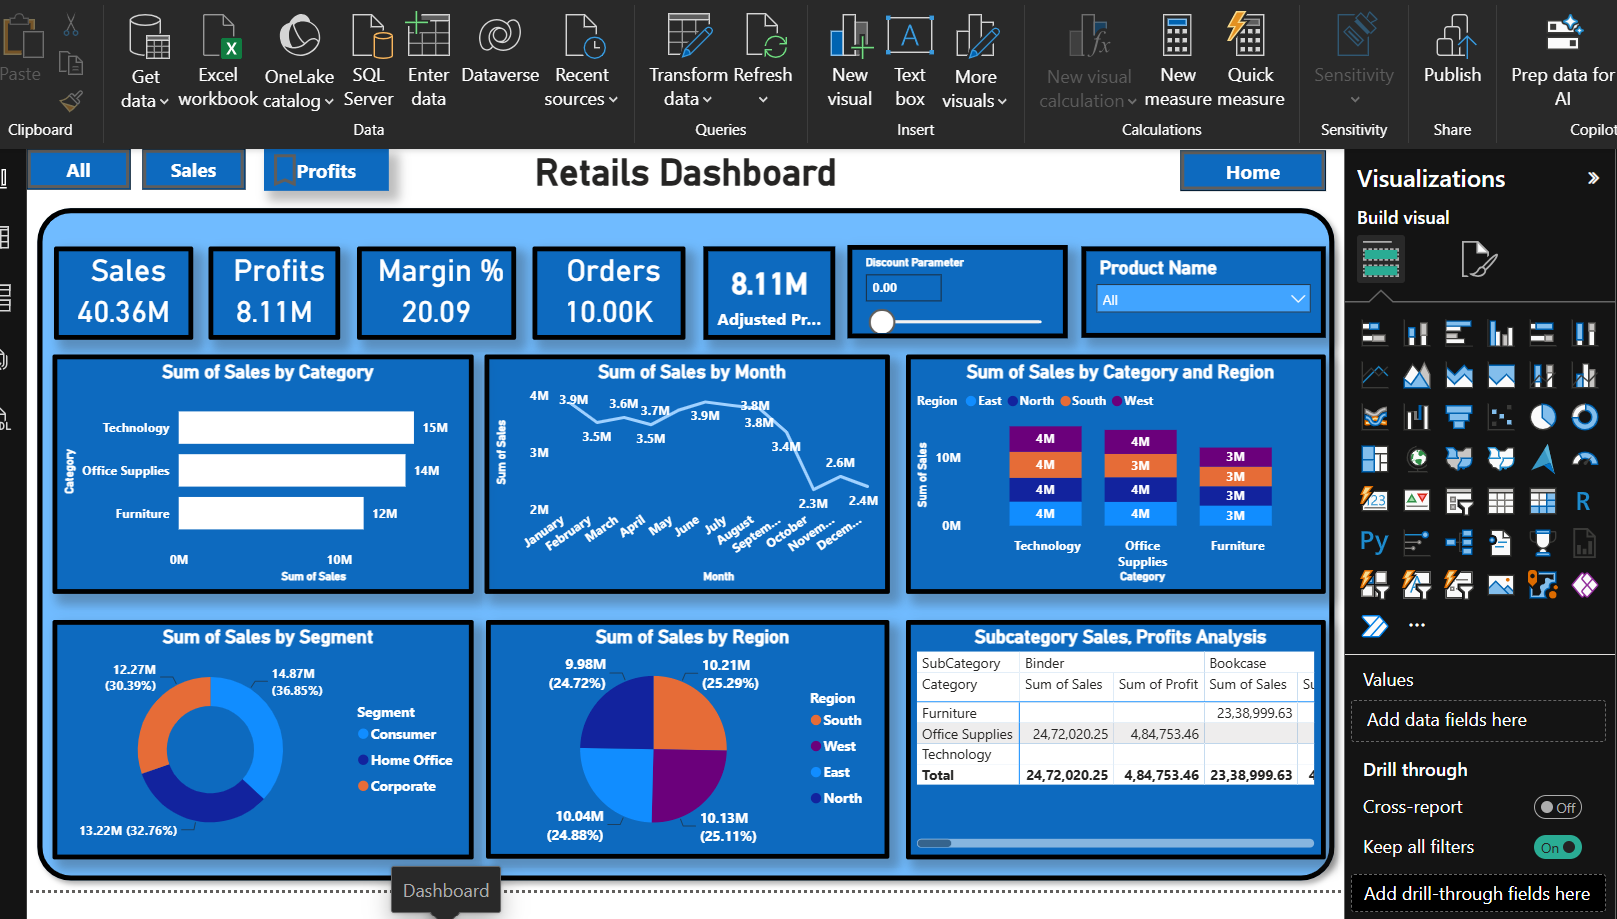

Layout of this report page (visuals, bound fields, positions):
{"tool":"powerbi","page":{"name":"Dashboard","canvas":[1280,720],"ordinal":1},"visuals":[{"type":"group","id":"g1","title":"Sales View","box":[0,-0.7,1280.8,721.4],"z":0},{"type":"shape","title":"Retails Dashboard","box":[0,1.4,1280.8,719.2],"z":0,"group":"g1"},{"type":"card","title":"Margin %","fields":{"Values":["Orders.Profit Margin %"]},"box":[320.7,94.1,154.5,90.4],"z":1000,"group":"g1"},{"type":"slicer","fields":{"Values":["Products.ProductName"]},"box":[1024.9,94.8,237.6,88.9],"z":1000},{"type":"actionButton","box":[0,-0.7,100.6,39.4],"z":2000,"group":"g1"},{"type":"actionButton","title":"Profits","box":[230.3,0,121,40.8],"z":2000},{"type":"actionButton","box":[112.4,0,99.7,39.6],"z":3000},{"type":"card","title":"Sales","fields":{"Values":["Orders.Total Sales"]},"box":[26.2,94.1,135.6,90.4],"z":3000,"group":"g1"},{"type":"slicer","fields":{"Values":["Discount Parameter.Discount Parameter"]},"box":[797.4,93.3,214.3,90.4],"z":4000},{"type":"card","title":"Profits","fields":{"Values":["Sum(Orders.Profit)"]},"box":[176.4,94.1,128.3,90.4],"z":4000,"group":"g1"},{"type":"actionButton","box":[1121.1,1.5,141.4,39.4],"z":5000},{"type":"card","fields":{"Values":["Customers.Adjusted Profit"]},"box":[657.5,94.7,128.3,90.4],"z":5000,"group":"g1"},{"type":"card","title":"Orders","fields":{"Values":["Count(Orders.OrderID)"]},"box":[491.3,94.7,148.7,90.4],"z":6000,"group":"g1"},{"type":"lineChart","fields":{"Category":["DateTable.Date.Variation.Date Hierarchy.Month"],"Y":["Sum(Orders.Sales)"]},"box":[444.2,199.5,394.2,232.7],"z":7000,"group":"g1"},{"type":"clusteredBarChart","fields":{"Category":["Products.Category"],"Y":["Sum(Orders.Sales)"]},"box":[25,199.5,409.6,232.7],"z":8000,"group":"g1"},{"type":"columnChart","fields":{"Y":["Sum(Orders.Sales)"],"Category":["Products.Category"],"Series":["Regions.Region"]},"box":[853.8,199.5,407.7,232.7],"z":9000,"group":"g1"},{"type":"donutChart","fields":{"Category":["Customers.Segment"],"Y":["Sum(Orders.Sales)"]},"box":[25,457.2,409.6,232.7],"z":10000,"group":"g1"},{"type":"pieChart","fields":{"Category":["Regions.Region"],"Y":["Sum(Orders.Sales)"]},"box":[446.1,457.7,392.2,231.8],"z":11000,"group":"g1"},{"type":"pivotTable","title":"Subcategory Sales, Profits Analysis","fields":{"Rows":["Products.Category"],"Values":["Sum(Orders.Sales)","Sum(Orders.Profit)"],"Columns":["Products.SubCategory"]},"box":[853.8,457.2,407.7,232.7],"z":12000,"group":"g1"}]}

Visuals, with their boxes on the page's 1280x720 design canvas (x1, y1, x2, y2). These are canvas units, not pixel positions in the 1617x919 screenshot, which may show the page scaled, cropped or inside an application window:
"Sales View" group: select_region(0, -1, 1281, 721)
"Retails Dashboard" shape: select_region(0, 1, 1281, 721)
"Margin %" card: select_region(321, 94, 475, 184)
slicer - Products.ProductName: select_region(1025, 95, 1262, 184)
actionButton: select_region(0, -1, 101, 39)
"Profits" actionButton: select_region(230, 0, 351, 41)
actionButton: select_region(112, 0, 212, 40)
"Sales" card: select_region(26, 94, 162, 184)
slicer - Discount Parameter.Discount Parameter: select_region(797, 93, 1012, 184)
"Profits" card: select_region(176, 94, 305, 184)
actionButton: select_region(1121, 2, 1262, 41)
card - Customers.Adjusted Profit: select_region(658, 95, 786, 185)
"Orders" card: select_region(491, 95, 640, 185)
lineChart - DateTable.Date.Variation.Date Hierarchy.Month x Sum(Orders.Sales): select_region(444, 200, 838, 432)
clusteredBarChart - Products.Category x Sum(Orders.Sales): select_region(25, 200, 435, 432)
columnChart - Sum(Orders.Sales) x Products.Category: select_region(854, 200, 1262, 432)
donutChart - Customers.Segment x Sum(Orders.Sales): select_region(25, 457, 435, 690)
pieChart - Regions.Region x Sum(Orders.Sales): select_region(446, 458, 838, 690)
"Subcategory Sales, Profits Analysis" pivotTable: select_region(854, 457, 1262, 690)
